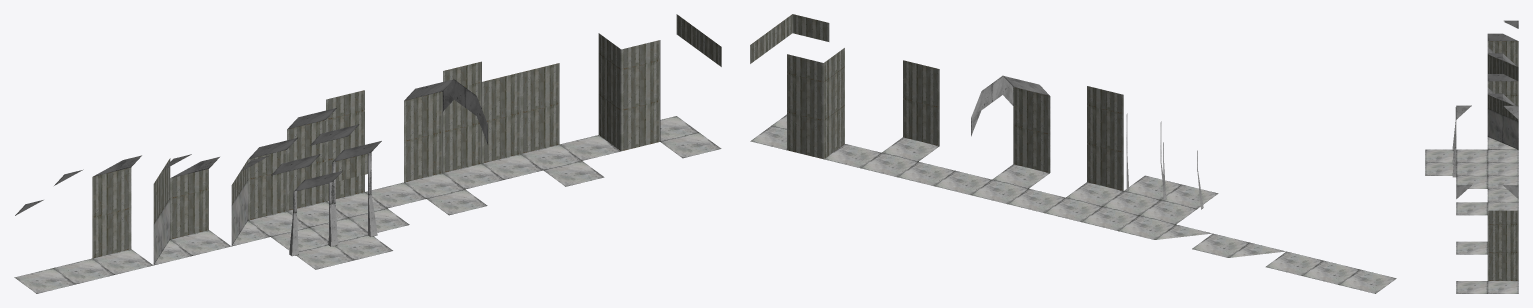
The model's file is tileset_bunker.glb.
3 renders of one model, left to right at view 1: azimuth 30°, elevation 25°; view 2: azimuth 150°, elevation 25°; view 3: azimuth 270°, elevation 25°, orthographic. The views are drawn at different scales.
Visible parts, largest first — view 1: Bunker_Tile_5-col, Bunker_Tile_7-col, Bunker_Tile_19-col, Bunker_Tile_8-col, Bunker_Tile_2-col, Bunker_Tile_10-col, Bunker_Tile_1-col, Bunker_Tile_15-col, Bunker_Tile_6-col, Bunker_Tile_3-col, Bunker_Tile_26-col, Bunker_Tile_14-col (+13 smaller); view 2: Bunker_Tile_5-col, Bunker_Tile_16-col, Bunker_Tile_13-col, Bunker_Tile_17-col, Bunker_Tile_25-col, Bunker_Tile_7-col, Bunker_Tile_26-col, Bunker_Tile_12-col, Bunker_Tile_24-col, Bunker_Tile_20-col, Bunker_Tile_23-col, Bunker_Tile_10-col (+13 smaller); view 3: Bunker_Tile_5-col, Bunker_Tile_18-col, Bunker_Tile_19-col, Bunker_Tile_15-col, Bunker_Tile_14-col, Bunker_Tile_17-col, Bunker_Tile_26-col, Bunker_Tile_13-col, Bunker_Tile_3-col, Bunker_Tile_24-col, Bunker_Tile_16-col, Bunker_Tile_23-col (+8 smaller).
Part boxes in pixels (x1=…): Bunker_Tile_5-col: x1=598, y1=33, x2=660, y2=151; Bunker_Tile_7-col: x1=404, y1=79, x2=465, y2=198; Bunker_Tile_19-col: x1=92, y1=155, x2=153, y2=274; Bunker_Tile_8-col: x1=520, y1=63, x2=581, y2=170; Bunker_Tile_2-col: x1=443, y1=61, x2=503, y2=189; Bunker_Tile_10-col: x1=482, y1=72, x2=542, y2=179; Bunker_Tile_1-col: x1=287, y1=108, x2=347, y2=227; Bunker_Tile_15-col: x1=170, y1=157, x2=231, y2=255; Bunker_Tile_6-col: x1=248, y1=138, x2=308, y2=236; Bunker_Tile_3-col: x1=326, y1=90, x2=386, y2=217; Bunker_Tile_26-col: x1=328, y1=141, x2=392, y2=260; Bunker_Tile_14-col: x1=153, y1=154, x2=191, y2=265; Bunker_Tile_5-col: x1=787, y1=48, x2=844, y2=159; Bunker_Tile_16-col: x1=992, y1=75, x2=1050, y2=188; Bunker_Tile_13-col: x1=1066, y1=86, x2=1123, y2=206; Bunker_Tile_17-col: x1=882, y1=60, x2=939, y2=161; Bunker_Tile_25-col: x1=771, y1=14, x2=829, y2=129; Bunker_Tile_7-col: x1=971, y1=84, x2=1028, y2=203; Bunker_Tile_26-col: x1=1124, y1=113, x2=1181, y2=200; Bunker_Tile_12-col: x1=750, y1=30, x2=786, y2=150; Bunker_Tile_24-col: x1=1161, y1=142, x2=1218, y2=209; Bunker_Tile_20-col: x1=1339, y1=269, x2=1396, y2=293; Bunker_Tile_23-col: x1=1139, y1=200, x2=1196, y2=224; Bunker_Tile_10-col: x1=897, y1=161, x2=954, y2=185; Bunker_Tile_5-col: x1=1487, y1=210, x2=1518, y2=280; Bunker_Tile_18-col: x1=1487, y1=87, x2=1518, y2=149; Bunker_Tile_19-col: x1=1487, y1=33, x2=1518, y2=66; Bunker_Tile_15-col: x1=1487, y1=74, x2=1518, y2=105; Bunker_Tile_14-col: x1=1487, y1=47, x2=1518, y2=81; Bunker_Tile_17-col: x1=1456, y1=185, x2=1487, y2=254; Bunker_Tile_26-col: x1=1425, y1=107, x2=1456, y2=177; Bunker_Tile_13-col: x1=1456, y1=105, x2=1487, y2=188; Bunker_Tile_3-col: x1=1487, y1=105, x2=1518, y2=188; Bunker_Tile_24-col: x1=1425, y1=122, x2=1455, y2=164; Bunker_Tile_16-col: x1=1456, y1=202, x2=1487, y2=215; Bunker_Tile_23-col: x1=1456, y1=149, x2=1487, y2=162.
Bounding box in the file's own units: 27.2 × 4 × 4.8.
Materials: 1 (1 with a texture image).
